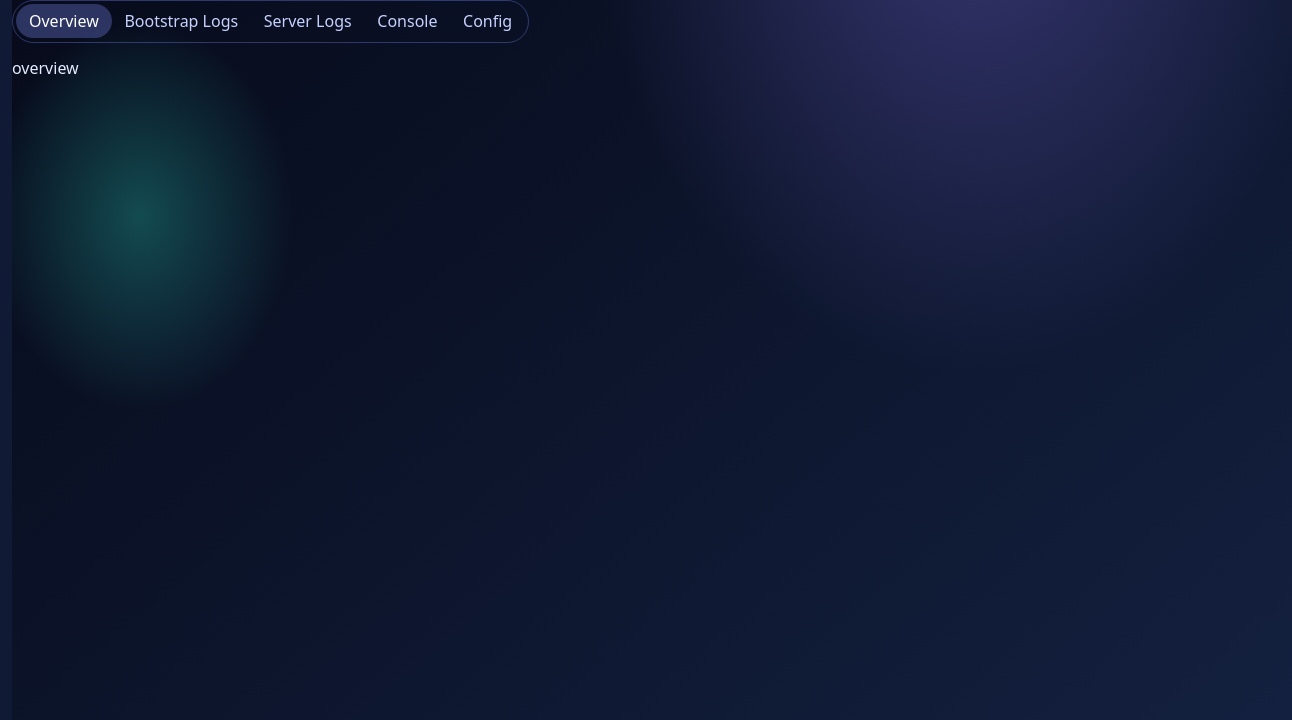
Test: InstanceDetailTabs › renders stable ARIA controls and changes the mounted panel
Check: the panel reads "overview", box x1=12 y1=57 x2=79 y2=79
Click the tab "Server Logs": (308,21) x1=251 y1=4 x2=364 y2=38
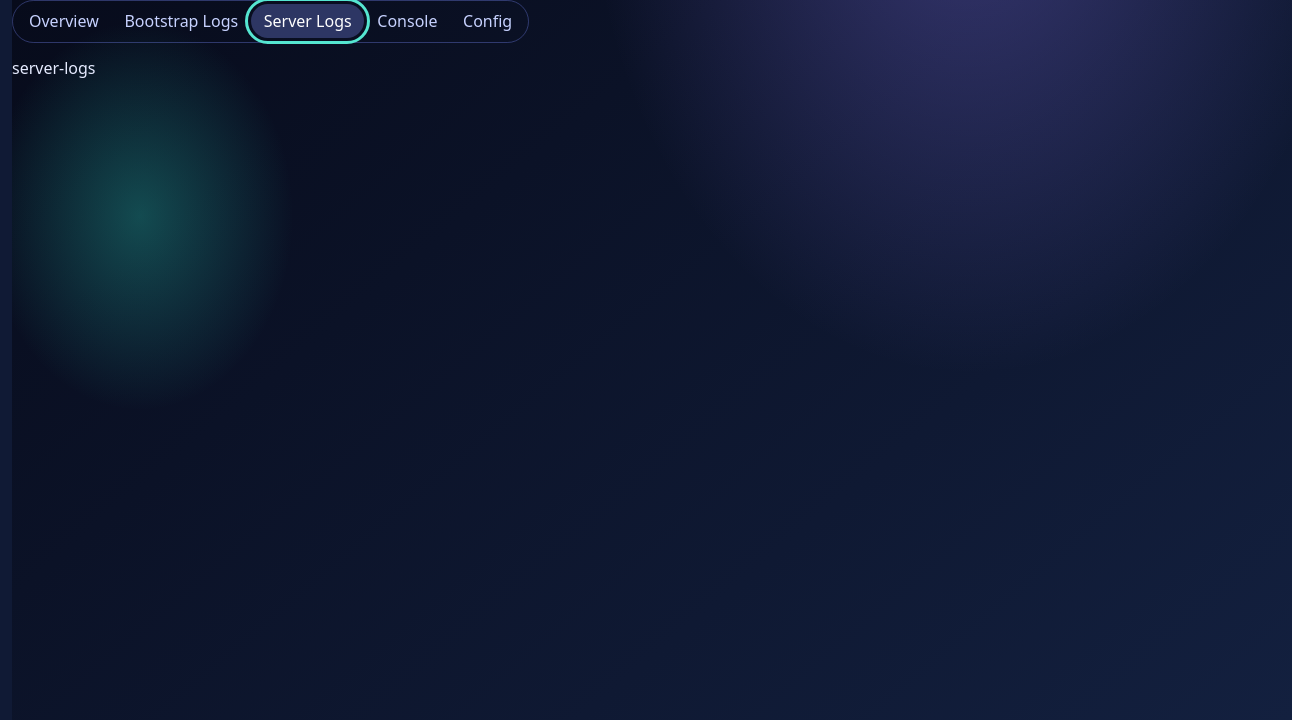
Check: the panel reads "server-logs", box x1=12 y1=57 x2=96 y2=79
